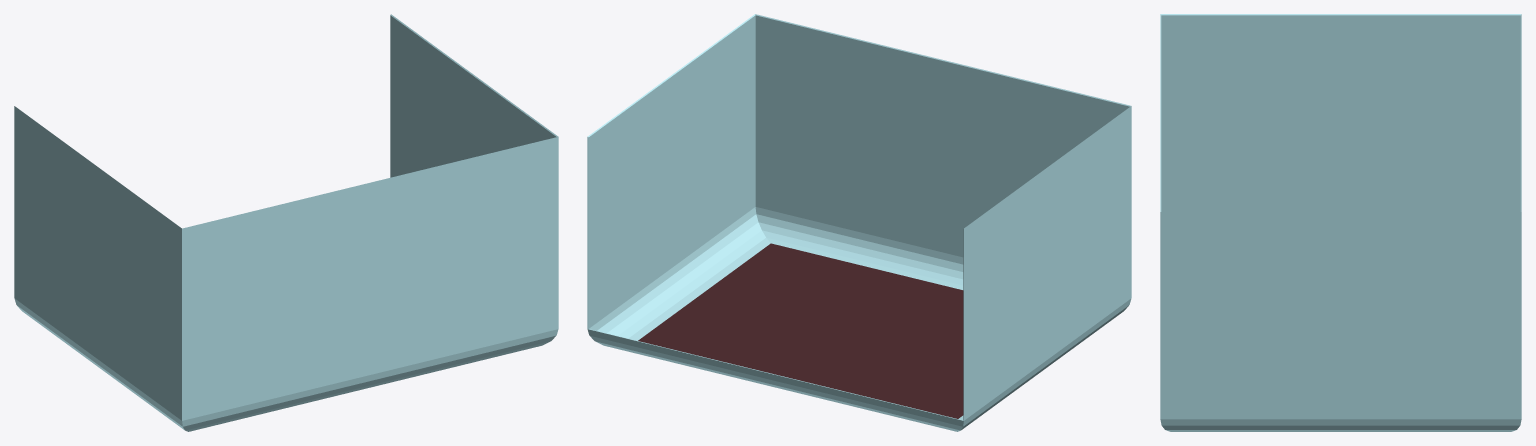
Rendered from Terrarium.fbx.
The picture shows the model from 3 angles, left to right: view 1: azimuth 30°, elevation 25°; view 2: azimuth 150°, elevation 25°; view 3: azimuth 270°, elevation 25°; orthographic projection. The views are drawn at different scales.
Parts seen in each view (by area): view 1: Terrarium; view 2: Terrarium; view 3: Terrarium.
Part boxes in pixels (box(x1,y1,x2,y2)): Terrarium: box(14, 14, 558, 431); Terrarium: box(587, 14, 1131, 431); Terrarium: box(1160, 14, 1521, 431).
Size of the model in its own units: 1318 by 716 by 1017.
